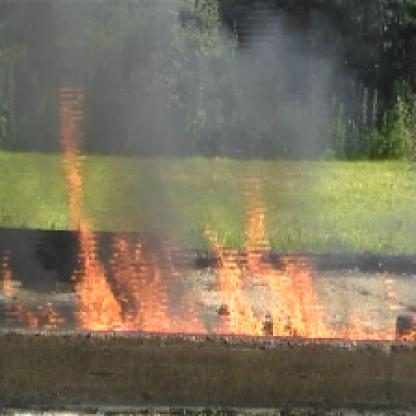Fire: (45, 78, 204, 338), (204, 176, 412, 342)
Smoke: (2, 2, 306, 226)
